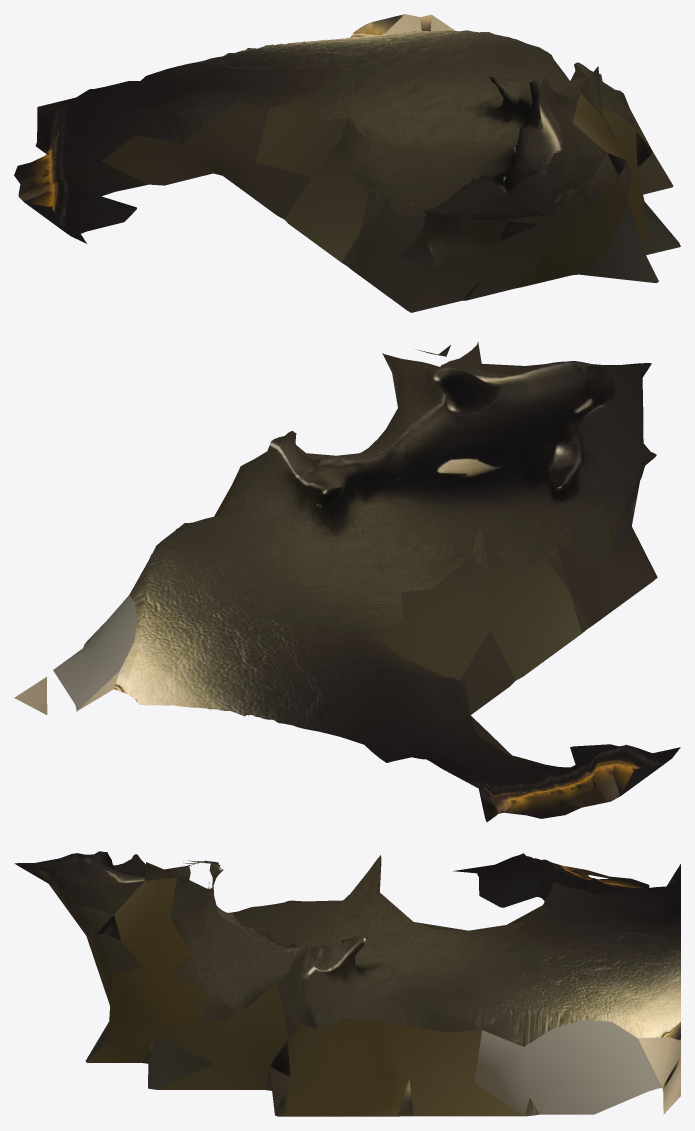
The model's file is modelo beatriz.glb.
3 renders of one model, top to bottom at view 1: azimuth 30°, elevation 25°; view 2: azimuth 150°, elevation 25°; view 3: azimuth 270°, elevation 25°, orthographic. The views are drawn at different scales.
Visible parts, largest first — view 1: Object_4; view 2: Object_4; view 3: Object_4.
Boxes of the visible parts, x1,y1,x2,y2 form: Object_4: [14, 14, 680, 312]; Object_4: [14, 342, 680, 822]; Object_4: [14, 851, 680, 1116].
Size of the model in its own units: 6.49 by 2.12 by 7.39.
Materials: 1 (1 with a texture image).
